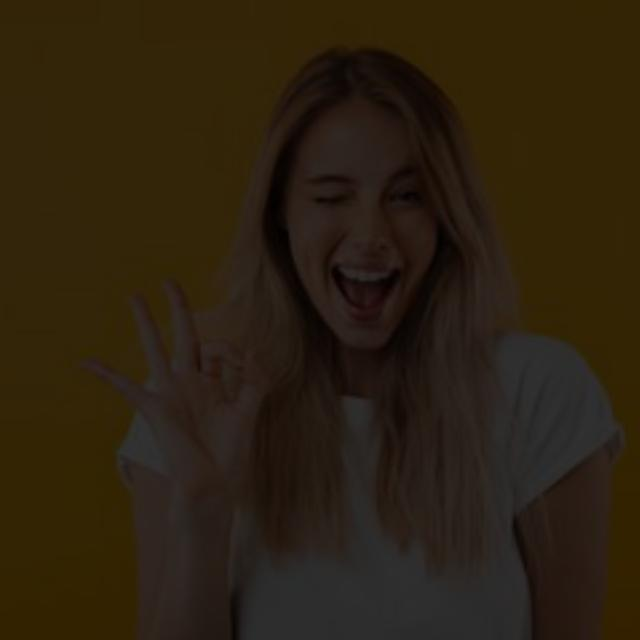Happy: (232, 86, 486, 360)
